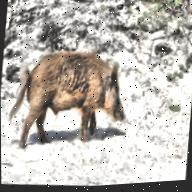boar: (5, 40, 131, 159)
